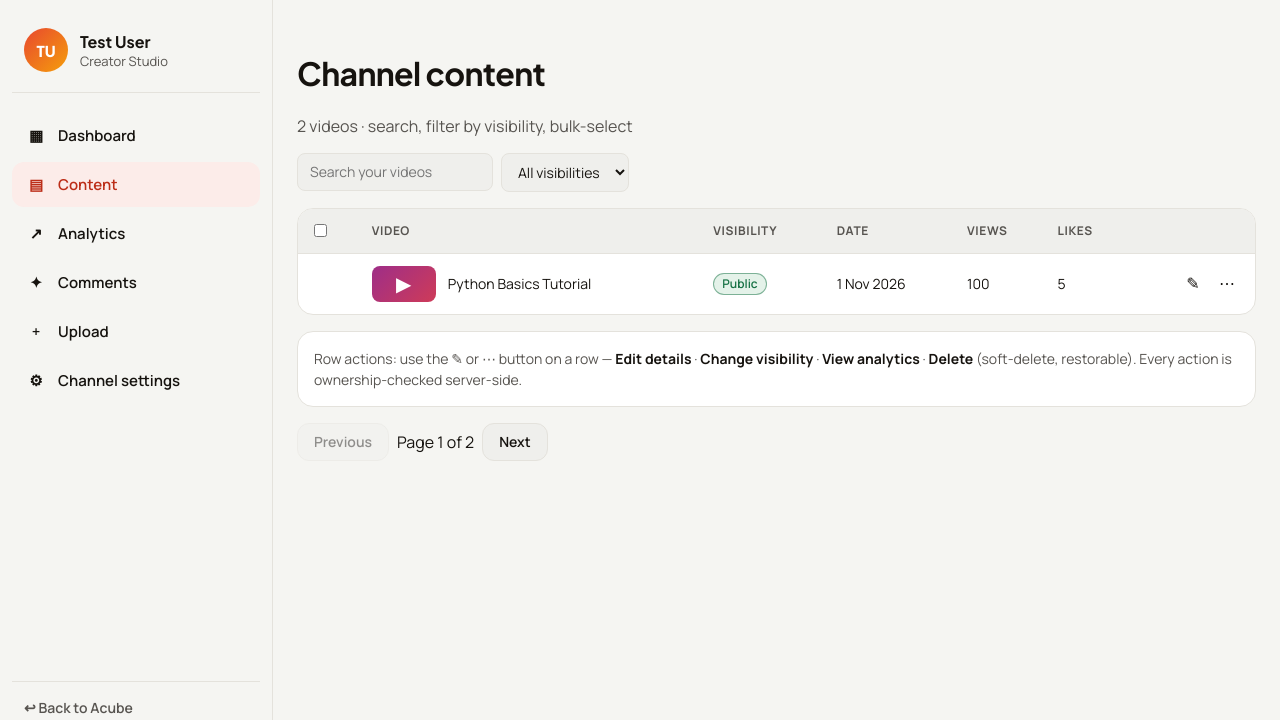
it: C — Content › pagination moves between pages
Check: the link "Python Basics Tutorial" is shown, box [448,274,591,293]
Check: the text "Page 1 of 2" is shown, box [397,431,474,453]
Click the button "Next" at (515, 442), box [482,423,548,461]
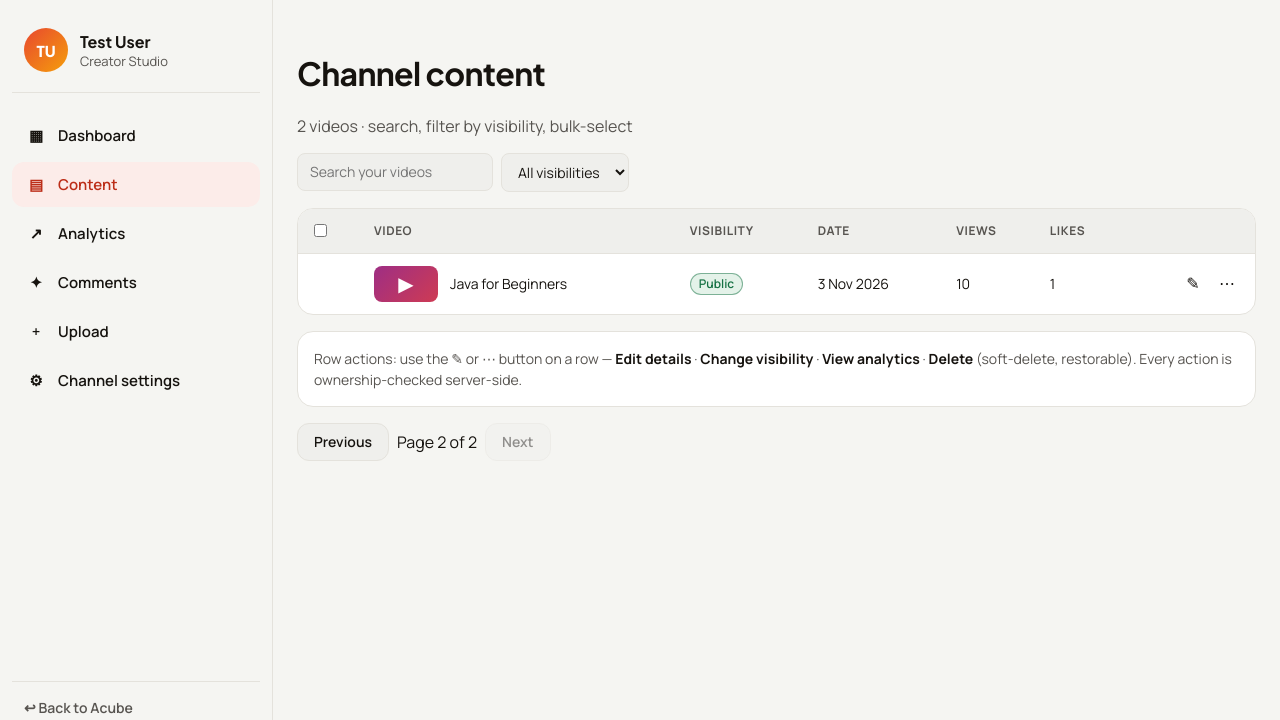
Check: the link "Java for Beginners" is shown, box [450,274,567,293]
Check: the text "Page 2 of 2" is shown, box [397,431,477,453]
Check: the link "Python Basics Tutorial" is gone
Click the button "Previous" at (343, 442), box [297,423,389,461]
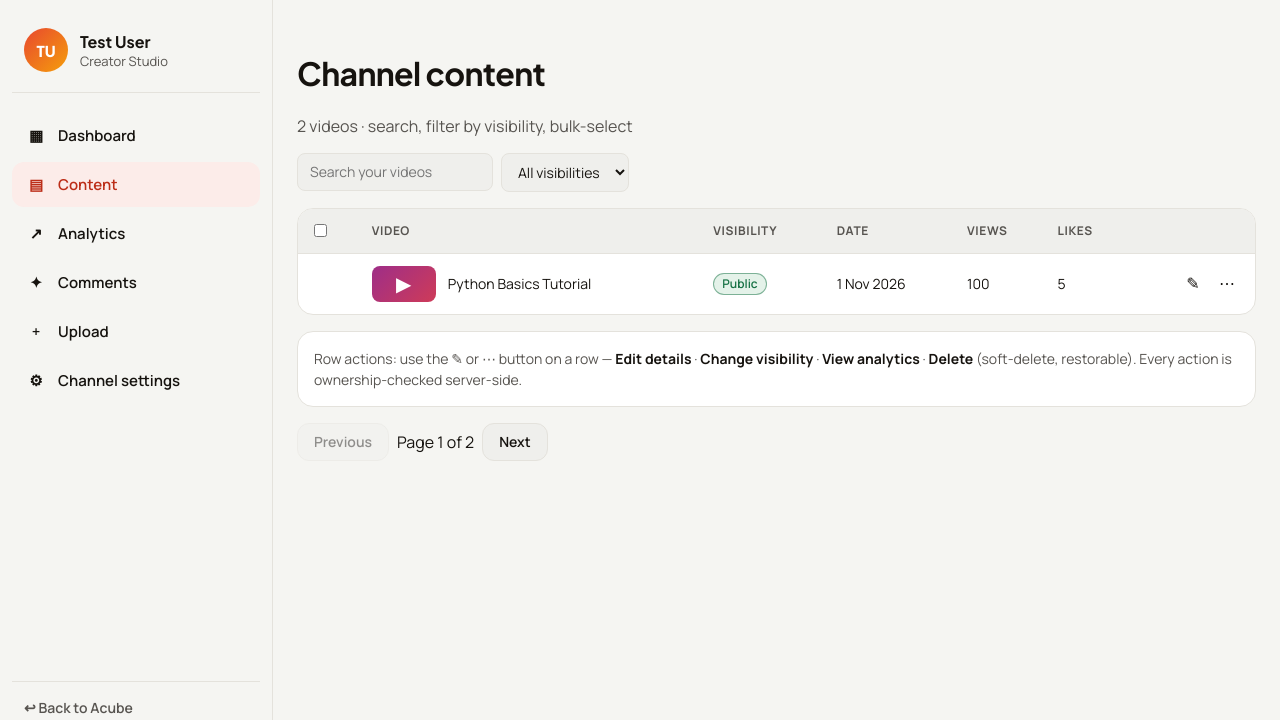
Check: the link "Python Basics Tutorial" is shown, box [448,274,591,293]
